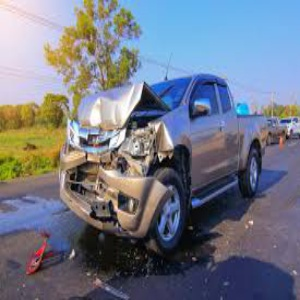bonnet: (82, 79, 153, 122)
bumper: (88, 172, 169, 241)
